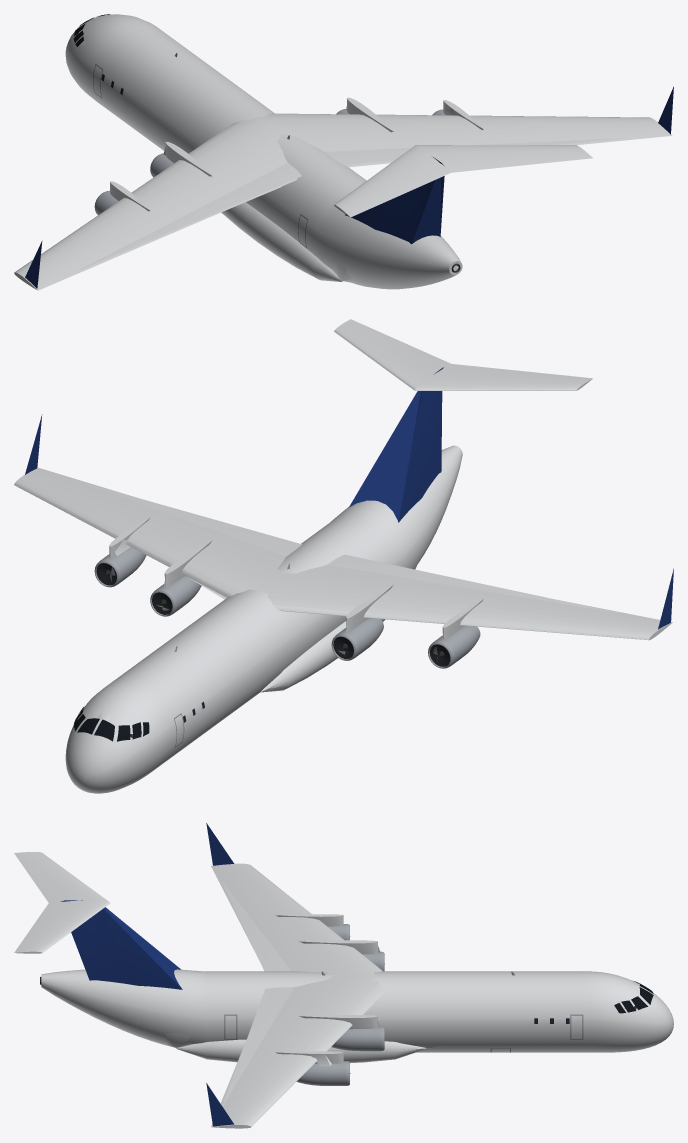
Rendered from lat_quad_high.dae.
3 views of the same model, one above another, from view 1: azimuth 30°, elevation 25°; view 2: azimuth 150°, elevation 25°; view 3: azimuth 270°, elevation 25° (orthographic). The views are drawn at different scales.
Visible parts, largest first — view 1: lat_quad_high150, lat_quad_high32, lat_quad_high1; view 2: lat_quad_high150, lat_quad_high1, lat_quad_high32; view 3: lat_quad_high150, lat_quad_high1, lat_quad_high32.
Part boxes in pixels (<box>): lat_quad_high150: <box>14,14,672,290</box>; lat_quad_high32: <box>75,15,624,285</box>; lat_quad_high1: <box>25,86,673,288</box>; lat_quad_high150: <box>14,319,672,793</box>; lat_quad_high1: <box>25,367,673,629</box>; lat_quad_high32: <box>73,479,655,745</box>; lat_quad_high150: <box>14,852,673,1128</box>; lat_quad_high1: <box>61,823,234,1126</box>; lat_quad_high32: <box>132,881,650,1106</box>.
Bounding box in the file's own units: 51.8 × 55.29 × 14.
